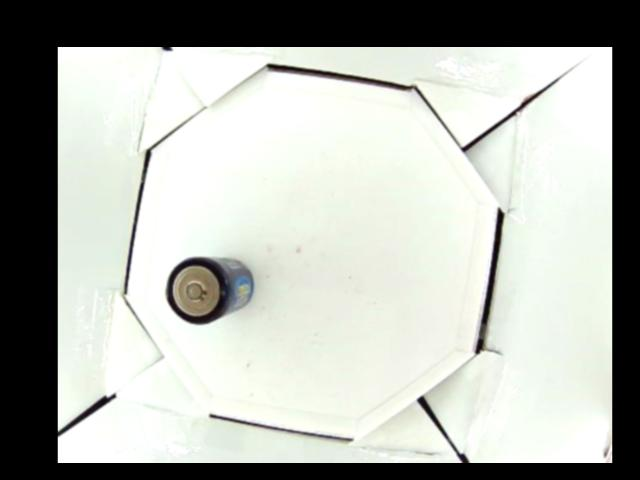Battery: (164, 257, 254, 325)
